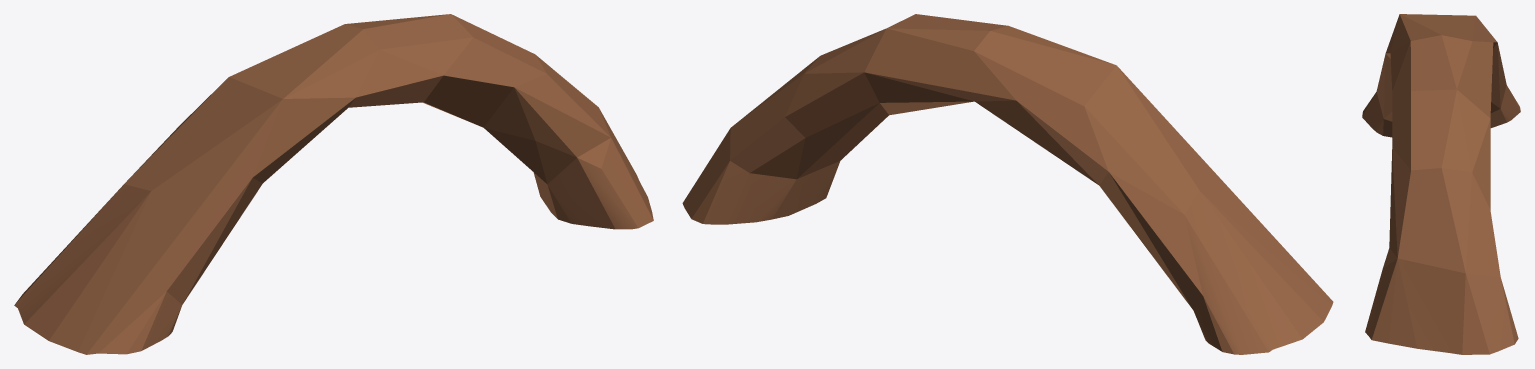
The model's file is SPW_Natures_Stone_02.glb.
3 views of the same model, side by side, from view 1: azimuth 30°, elevation 25°; view 2: azimuth 150°, elevation 25°; view 3: azimuth 270°, elevation 25° (orthographic). The views are drawn at different scales.
Parts seen in each view (by area): view 1: SPW_Natures_Stone_02; view 2: SPW_Natures_Stone_02; view 3: SPW_Natures_Stone_02.
Boxes of the visible parts, x1=… form: SPW_Natures_Stone_02: x1=14, y1=14, x2=653, y2=354; SPW_Natures_Stone_02: x1=682, y1=14, x2=1333, y2=354; SPW_Natures_Stone_02: x1=1362, y1=14, x2=1520, y2=354.
Size of the model in its own units: 8.42 by 2.94 by 2.14.
1 material, 1 textured.
